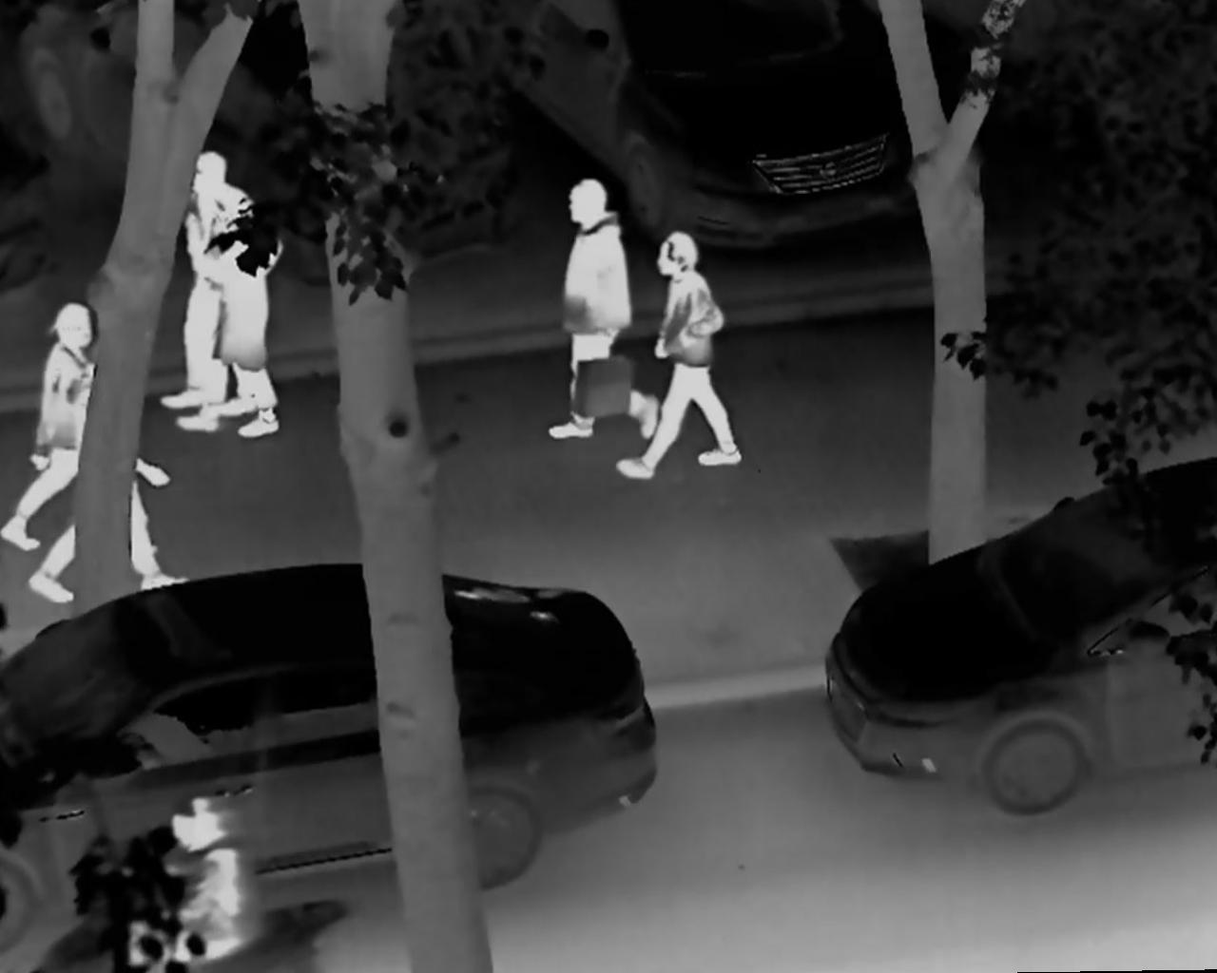person: (23, 352, 188, 606), (537, 166, 657, 447), (613, 230, 747, 481), (105, 791, 260, 973), (173, 194, 284, 443), (159, 140, 253, 425)
